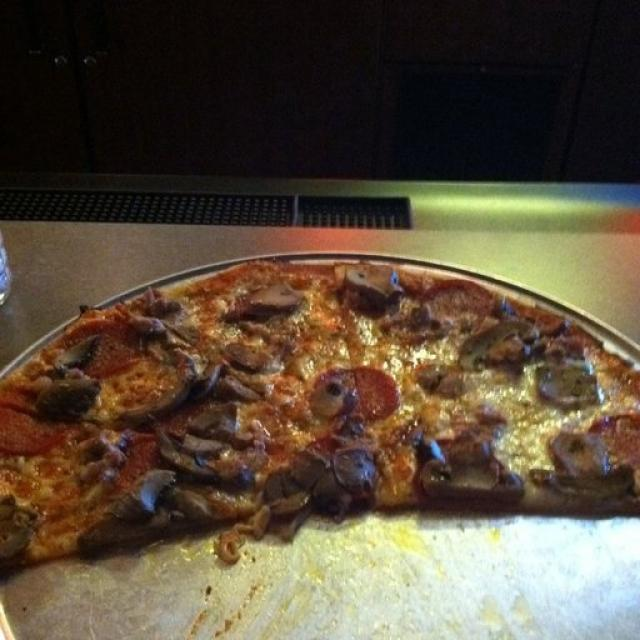Mushrooms: (422, 434, 542, 500), (82, 497, 215, 551), (541, 437, 632, 500), (278, 445, 372, 503), (128, 366, 217, 422), (462, 319, 531, 370), (48, 349, 102, 411), (164, 435, 226, 480), (341, 264, 407, 302), (224, 345, 266, 401), (550, 362, 594, 413), (123, 470, 171, 510), (140, 292, 182, 334), (247, 287, 306, 309), (401, 312, 442, 340)
Pepperoni: (0, 388, 66, 448), (314, 374, 401, 416), (79, 324, 136, 369), (600, 419, 640, 480), (432, 279, 489, 319), (121, 435, 158, 472)
Pizza: (0, 264, 640, 564)
